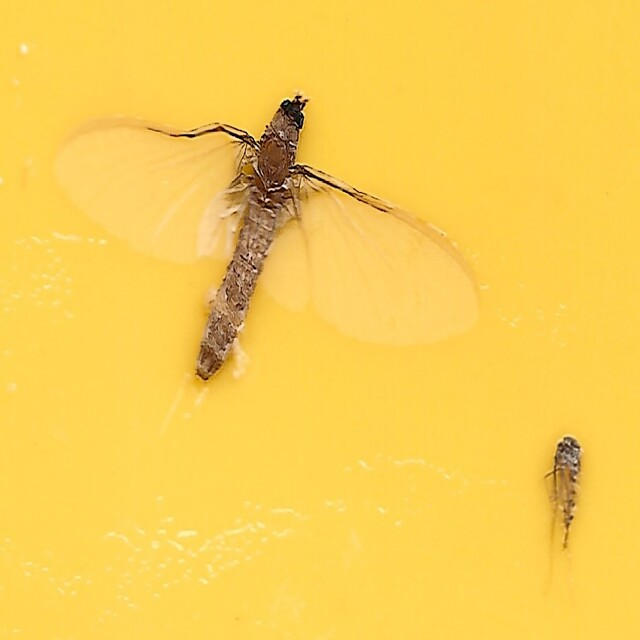Ephemeroptera: (56, 91, 483, 384)
Nematocera: (550, 430, 584, 549)
